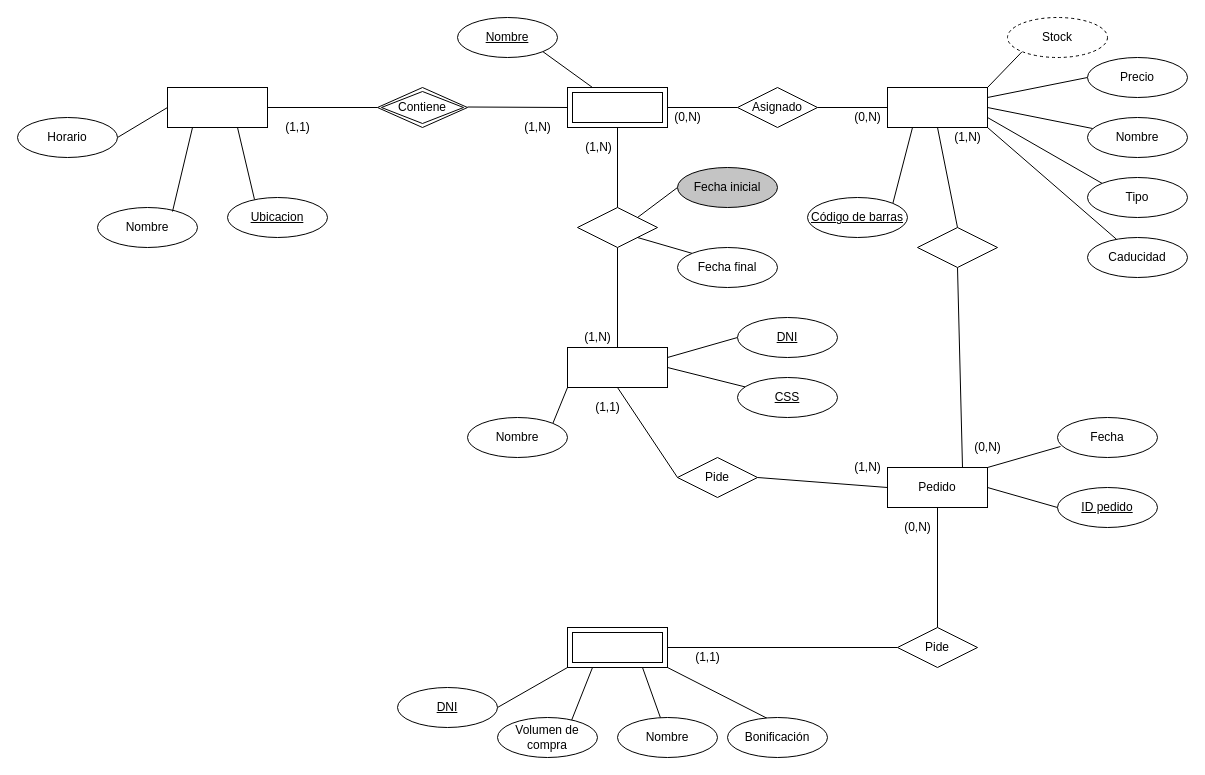
The diagram is 1205 pixels wide and 775 high, and some of its shapes have lost their labels. Each missing label, with the box of its shape:
Cliente: (566, 626, 668, 668)
Empleado: (566, 346, 668, 388)
Pertenece: (916, 226, 998, 268)
Producto: (886, 86, 988, 128)
Trabaja: (576, 206, 658, 248)
Vivero: (166, 86, 268, 128)
Zonas: (566, 86, 668, 128)
